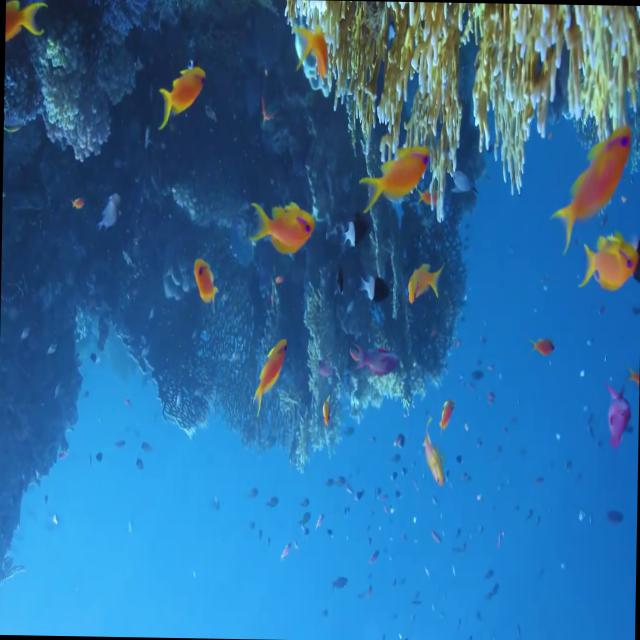fish: (539, 125, 635, 259), (350, 138, 430, 218), (240, 190, 314, 269), (248, 324, 290, 425), (152, 64, 212, 133), (344, 332, 405, 392), (578, 233, 636, 295), (601, 381, 639, 463), (4, 0, 46, 71), (402, 255, 452, 313), (189, 240, 220, 326), (415, 417, 450, 488), (338, 207, 376, 264), (362, 263, 398, 321), (432, 386, 464, 436), (528, 324, 562, 360)
